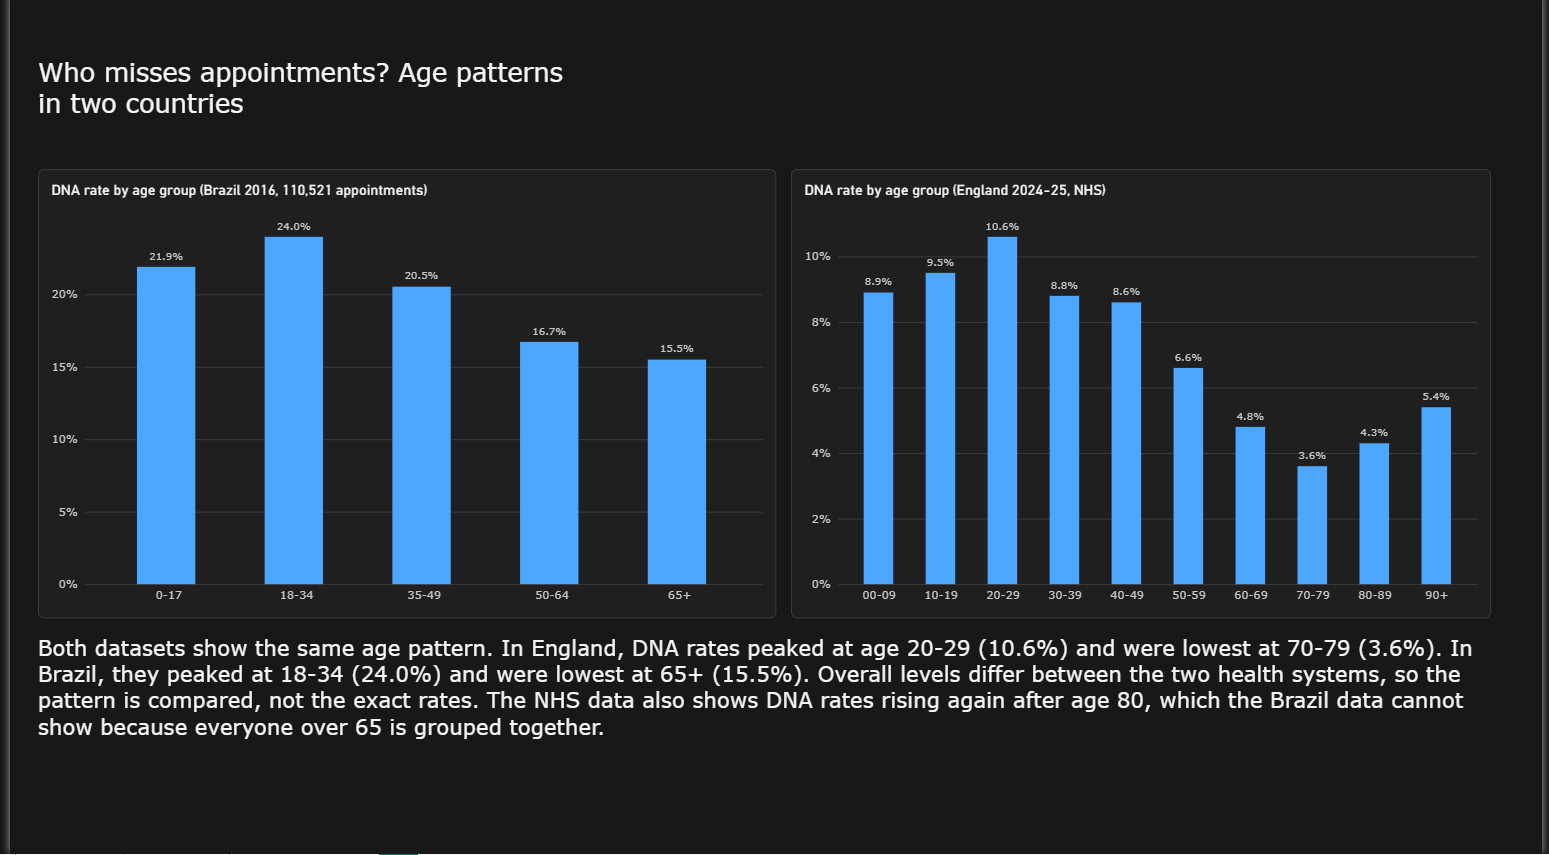

Layout of this report page (visuals, bound fields, positions):
{"tool":"powerbi","page":{"name":"Who misses","canvas":[1920,1080],"ordinal":1},"visuals":[{"type":"clusteredColumnChart","title":"DNA rate by age group (Brazil 2016, 110,521 appointments)","fields":{"Category":["appointments.AgeGroup"],"Y":["appointments.Patient DNA Rate"]},"box":[35,221.8,925,563.2],"z":0},{"type":"clusteredColumnChart","title":"DNA rate by age group (England 2024-25, NHS)","fields":{"Category":["nhs_age.NHS_AgeGroup"],"Y":["Sum(nhs_age.NHS_DNA_Rate)"]},"box":[979,221.8,876.8,563.2],"z":1},{"type":"textbox","box":[35,80.2,697.4,119.6],"z":2},{"type":"textbox","box":[35,803.9,1820.8,167.8],"z":3}]}

Visuals, with their boxes in screenshot pixels (x1, y1, x2, y2), scaled from the page's 1920x1080 canvas onto the 1549x855 screenshot:
"DNA rate by age group (Brazil 2016, 110,521 appointments)" clusteredColumnChart: (x1=28, y1=176, x2=774, y2=621)
"DNA rate by age group (England 2024-25, NHS)" clusteredColumnChart: (x1=790, y1=176, x2=1497, y2=621)
textbox: (x1=28, y1=63, x2=591, y2=158)
textbox: (x1=28, y1=636, x2=1497, y2=769)
